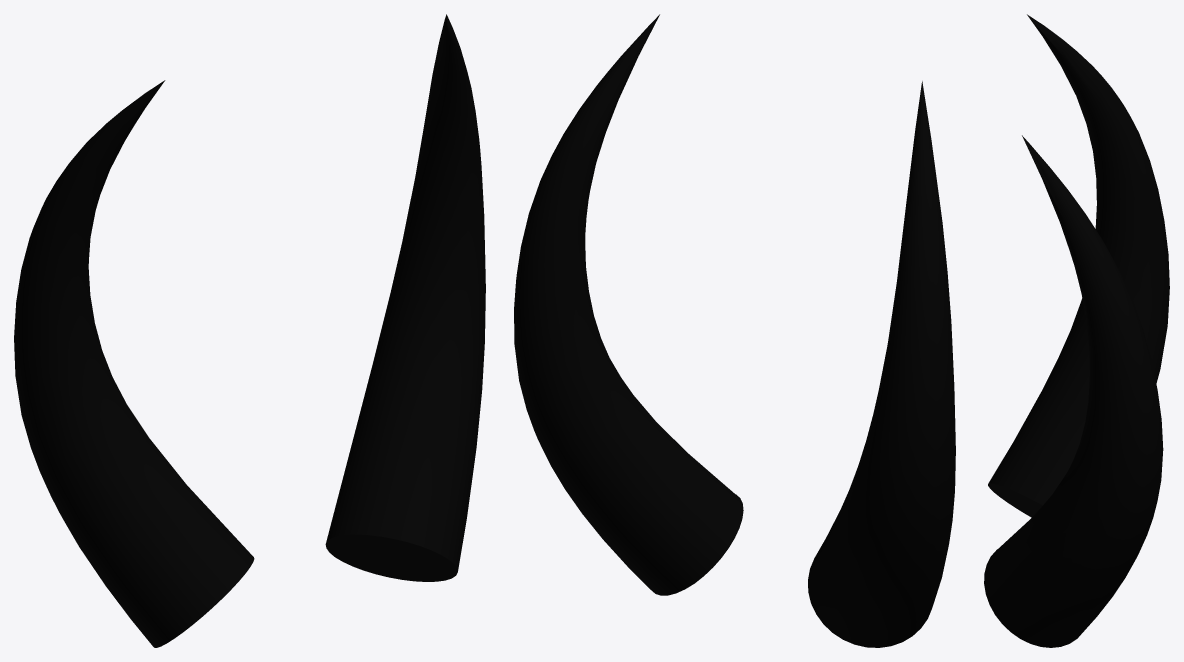
File: fusionbracedevil.obj
3 renders of one model, left to right at view 1: azimuth 30°, elevation 25°; view 2: azimuth 150°, elevation 25°; view 3: azimuth 270°, elevation 25°, orthographic. The views are drawn at different scales.
Parts seen in each view (by area): view 1: Fusionbrace1; view 2: Fusionbrace1; view 3: Fusionbrace1.
Part boxes in pixels (box(x1,y1,x2,y2)): Fusionbrace1: box(14, 14, 485, 647); Fusionbrace1: box(514, 14, 955, 647); Fusionbrace1: box(984, 14, 1169, 647).
Size of the model in its own units: 1.23 by 1.49 by 0.4866.
Materials: 1 (1 with a texture image).
